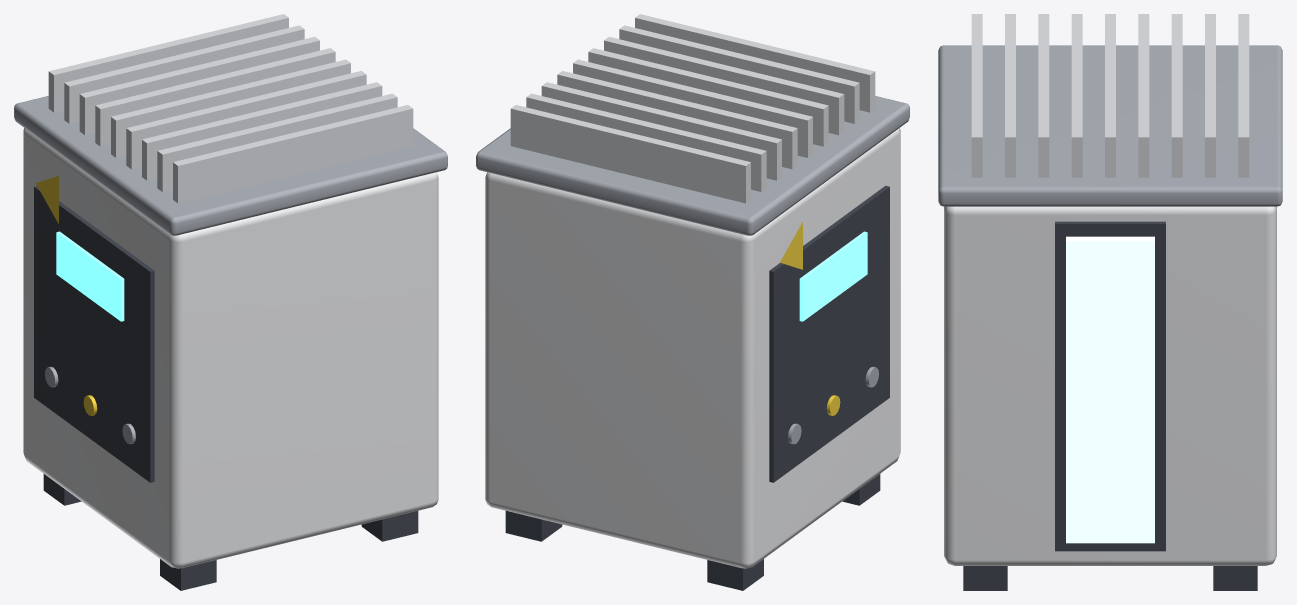
Rendered from bateria.glb.
The picture shows the model from 3 angles, left to right: view 1: azimuth 30°, elevation 25°; view 2: azimuth 150°, elevation 25°; view 3: azimuth 270°, elevation 25°; orthographic projection. The views are drawn at different scales.
Parts seen in each view (by area): view 1: gabinete, frente, tapa, Cube.004, Cube.012, Cube.010, Cube.009, Cube.011, Cube.007, Cube.006, Cube.005, Cube.008 (+4 smaller); view 2: gabinete, frente, tapa, Cube.012, Cube.004, Cube.006, Cube.005, Cube.007, Cube.009, Cube.010, Cube.011, Cube.008 (+4 smaller); view 3: gabinete, tapa, carga, marco_carga, Cube.004, Cube.006, Cube.007, Cube.009, Cube.010, Cube.012, Cube.005, Cube.008 (+3 smaller).
Boxes of the visible parts, left/top/right/bottom form: gabinete: left=23, top=128, right=438, bottom=568; frente: left=34, top=186, right=154, bottom=482; tapa: left=14, top=96, right=447, bottom=235; Cube.004: left=173, top=105, right=413, bottom=203; Cube.012: left=48, top=14, right=288, bottom=112; Cube.010: left=79, top=36, right=319, bottom=135; Cube.009: left=95, top=48, right=335, bottom=146; Cube.011: left=64, top=25, right=304, bottom=123; Cube.007: left=126, top=71, right=366, bottom=169; Cube.006: left=142, top=82, right=382, bottom=180; Cube.005: left=157, top=93, right=397, bottom=191; Cube.008: left=111, top=59, right=350, bottom=157; gabinete: left=485, top=128, right=900, bottom=568; frente: left=769, top=185, right=889, bottom=482; tapa: left=476, top=96, right=909, bottom=235; Cube.012: left=510, top=105, right=750, bottom=203; Cube.004: left=635, top=14, right=875, bottom=112; Cube.006: left=604, top=36, right=844, bottom=135; Cube.005: left=619, top=25, right=859, bottom=123; Cube.007: left=588, top=48, right=828, bottom=146; Cube.009: left=557, top=71, right=797, bottom=169; Cube.010: left=541, top=82, right=781, bottom=180; Cube.011: left=526, top=93, right=766, bottom=191; Cube.008: left=573, top=59, right=812, bottom=157; gabinete: left=944, top=206, right=1276, bottom=565; tapa: left=938, top=45, right=1282, bottom=206; carga: left=1066, top=236, right=1154, bottom=543; marco_carga: left=1055, top=221, right=1165, bottom=551; Cube.004: left=971, top=14, right=982, bottom=177; Cube.006: left=1038, top=14, right=1049, bottom=177; Cube.007: left=1071, top=14, right=1082, bottom=177; Cube.009: left=1138, top=14, right=1149, bottom=177; Cube.010: left=1171, top=14, right=1182, bottom=177; Cube.012: left=1238, top=14, right=1249, bottom=177; Cube.005: left=1005, top=14, right=1015, bottom=177; Cube.008: left=1105, top=14, right=1115, bottom=177.
Size of the model in its own units: 1.3 by 1.8 by 1.24.
